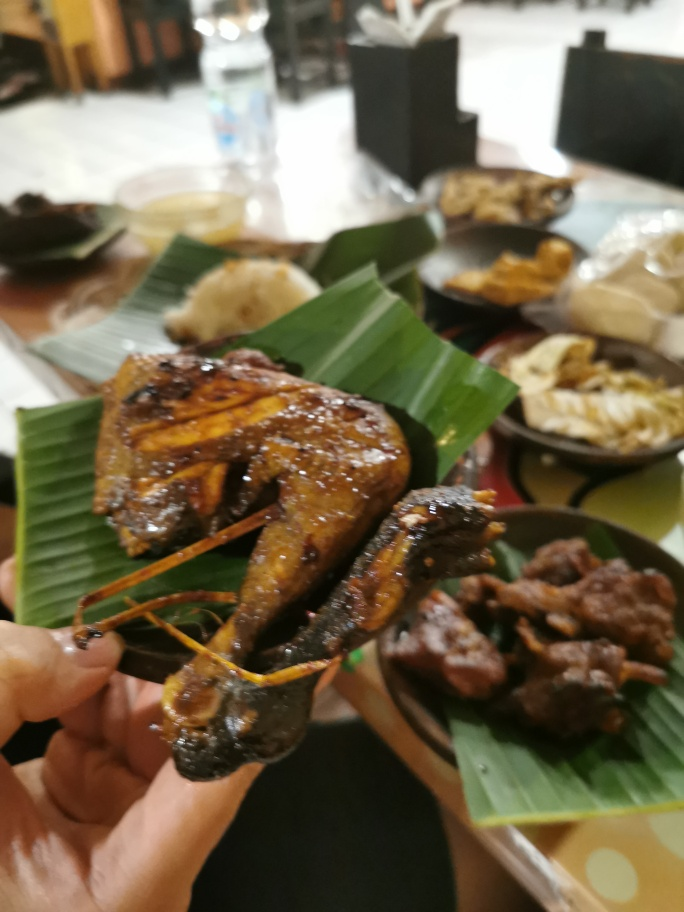ayam bakar: (101, 339, 498, 791)
